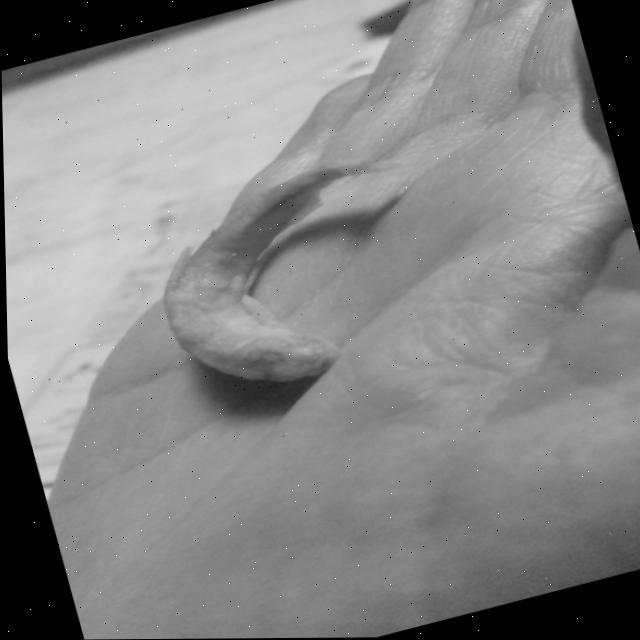炸货点心: (126, 144, 449, 418)
熟制海鲜: (126, 144, 449, 418)
